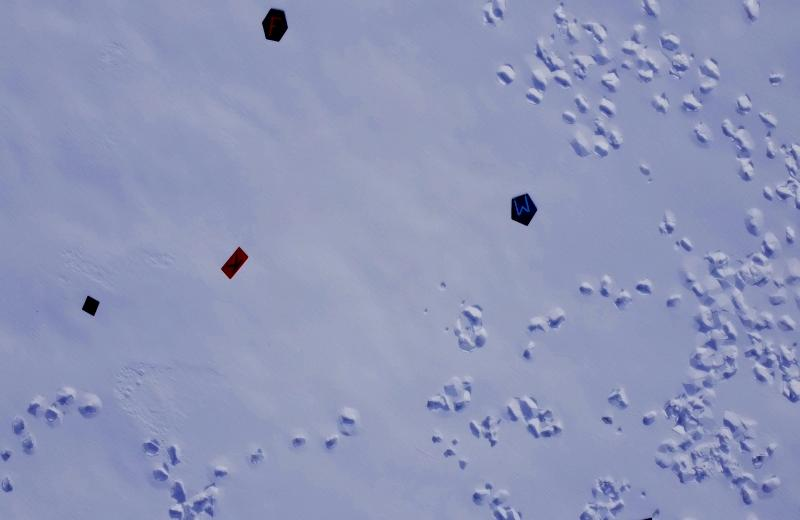Pentagon: (507, 187, 542, 230)
Rectangle: (216, 242, 249, 283)
Square: (79, 293, 105, 327)
